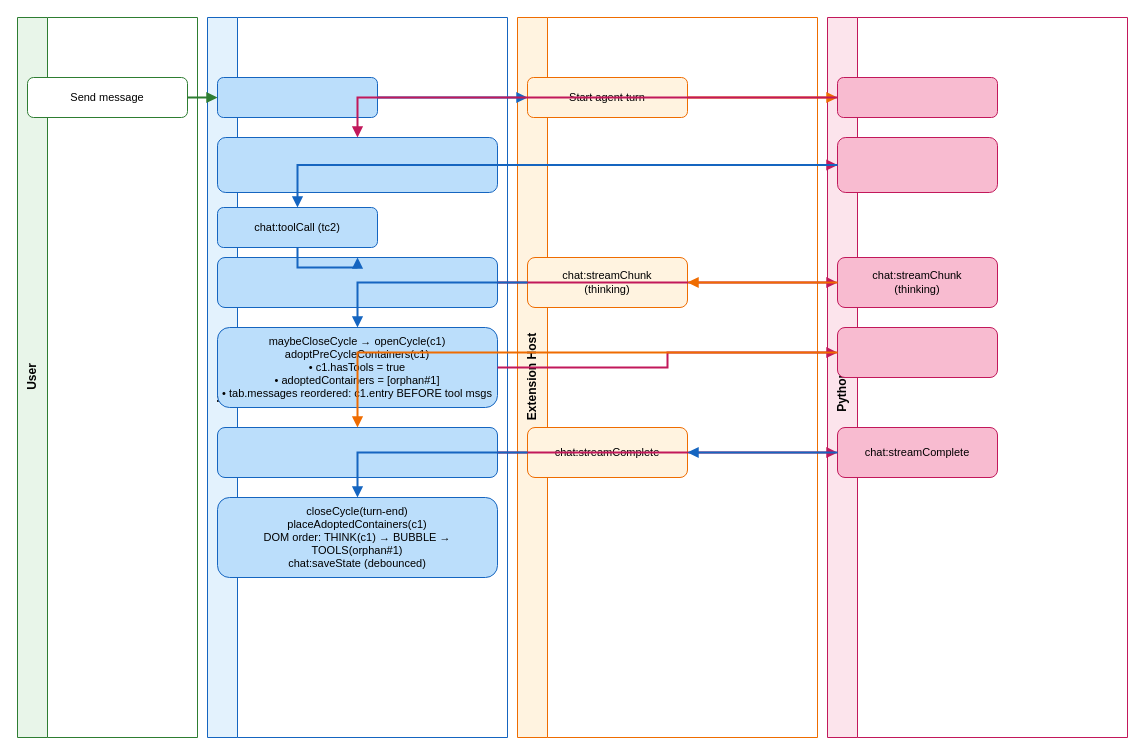
This 1145x755 diagram has some shape labels left out. Here are the shapes that lost their labels. From the top down, the centre of each, then its label:
At [297,97]: "chat:userMessage".
At [917,97]: "chat:toolCall (tc1)".
At [357,164]: "chat:toolCall (tc1) → renderToolCall → creates orphan container #1".
At [917,164]: "chat:toolCall (tc2) → renderToolCall → appends to orphan #1".
At [357,282]: "renderToolCall(tc2) → appends to orphan #1".
At [917,352]: "chat:streamChunk (token)".
At [357,452]: "ensureBubble(c1) + append content".
